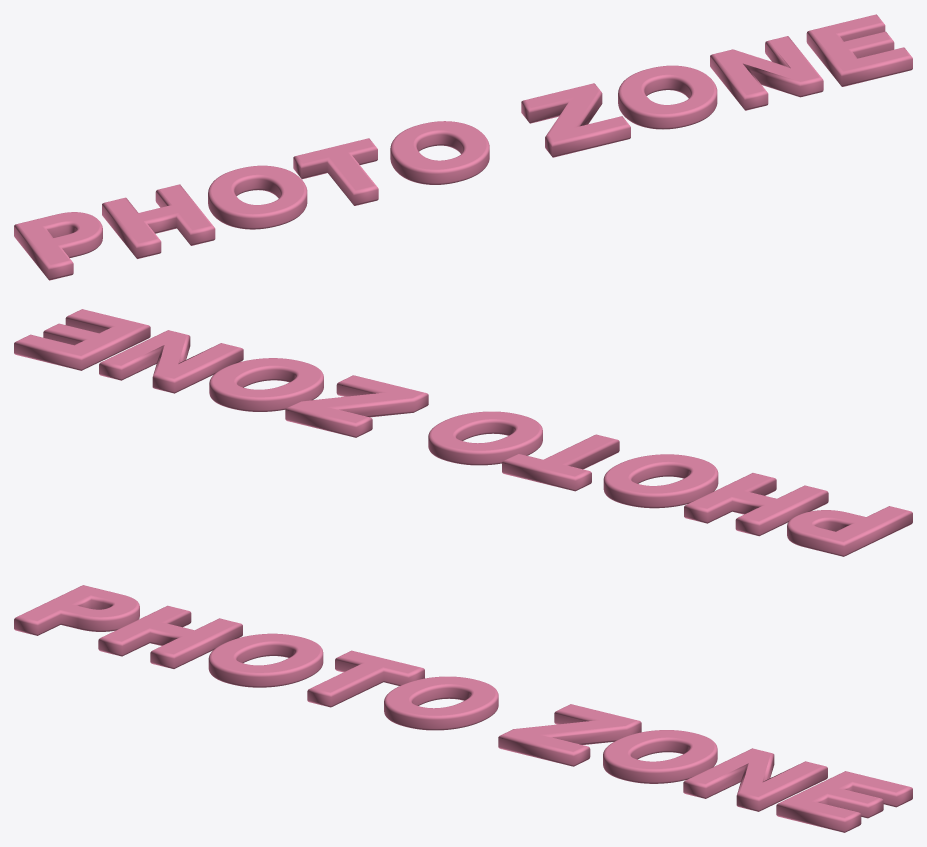
Rendered from Photo zone_text.fbx.
The picture shows the model from 3 angles, top to bottom: view 1: azimuth 30°, elevation 25°; view 2: azimuth 150°, elevation 25°; view 3: azimuth 330°, elevation 25°; orthographic projection. The views are drawn at different scales.
Parts seen in each view (by area): view 1: PRODUCTION IMAGES.003; view 2: PRODUCTION IMAGES.003; view 3: PRODUCTION IMAGES.003.
Part boxes in pixels (<box>): PRODUCTION IMAGES.003: <box>14,14,912,280</box>; PRODUCTION IMAGES.003: <box>14,309,912,556</box>; PRODUCTION IMAGES.003: <box>14,585,912,832</box>.
Size of the model in its own units: 611 by 10 by 66.7.
